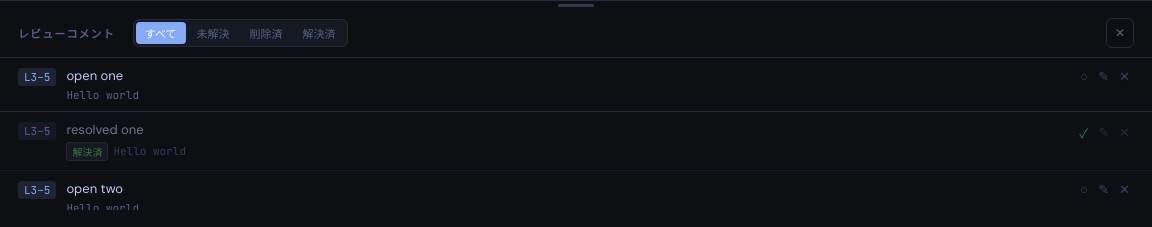
Test: CommentsPanel › フィルタ（すべて / 未解決 / 削除済 / 解決済） › Open を選ぶと未解決のみ表示される
Click the button with test id "filter-open" at (213, 33), box [188,22,239,44]
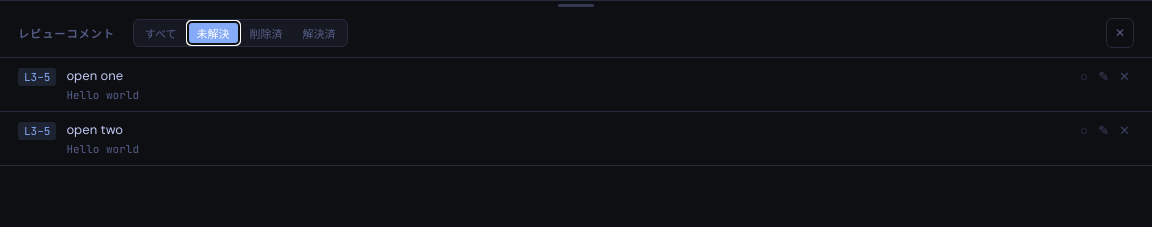
Check: the text "open one" is shown, box [66,67,123,84]
Check: the number of list items with test id "comment-item" is 2, box [0,58,1151,112]; [0,112,1151,166]
Check: the text "resolved one" is gone
